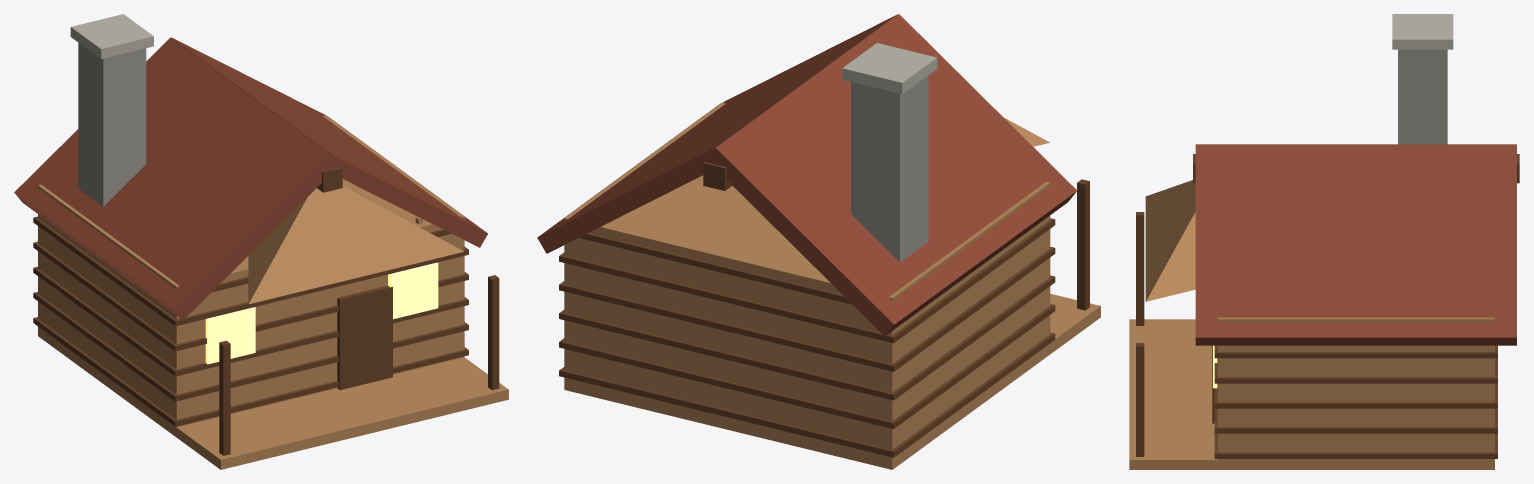
The model's file is cabin.glb.
3 views of the same model, side by side, from view 1: azimuth 30°, elevation 25°; view 2: azimuth 150°, elevation 25°; view 3: azimuth 270°, elevation 25° (orthographic). The views are drawn at different scales.
Parts seen in each view (by area): view 1: cabin; view 2: cabin; view 3: cabin.
Part boxes in pixels (x1,y1,x2,y2): cabin: [14, 14, 508, 469]; cabin: [537, 14, 1100, 469]; cabin: [1129, 14, 1519, 469].
Size of the model in its own units: 6.53 by 6.4 by 7.05.
